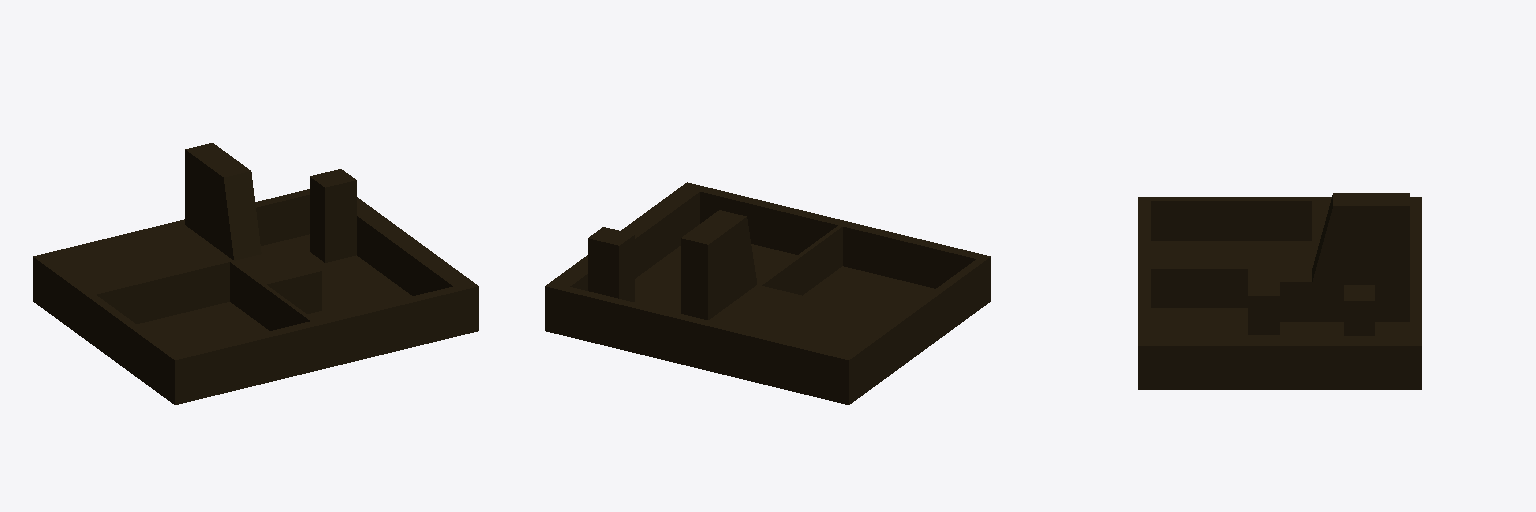
The model's file is b_col.obj.
3 views of the same model, side by side, from view 1: azimuth 30°, elevation 25°; view 2: azimuth 150°, elevation 25°; view 3: azimuth 270°, elevation 25° (orthographic).
Visible parts, largest first — view 1: Cube.031_Cube.780; view 2: Cube.031_Cube.780; view 3: Cube.031_Cube.780.
Boxes of the visible parts, x1=… form: Cube.031_Cube.780: x1=33, y1=143, x2=478, y2=404; Cube.031_Cube.780: x1=545, y1=182, x2=990, y2=404; Cube.031_Cube.780: x1=1138, y1=193, x2=1421, y2=389.
Bounding box in the file's own units: 3.68 × 1.39 × 2.98.